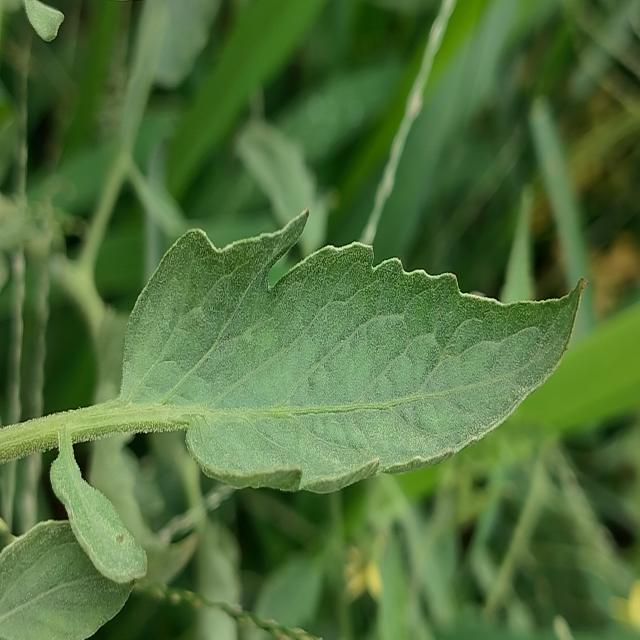tomato_healthy: (0, 211, 583, 492), (0, 512, 151, 640), (50, 426, 146, 583)
